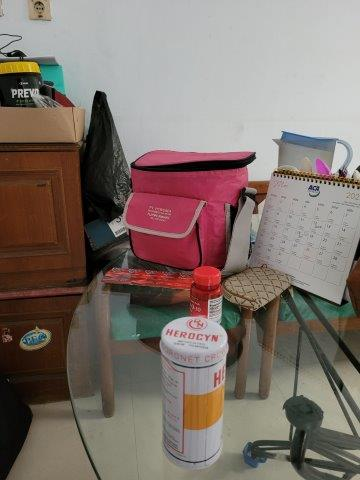kaleng: (160, 316, 229, 467)
